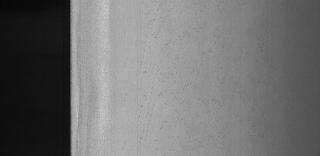silk spot: (129, 0, 231, 134)
